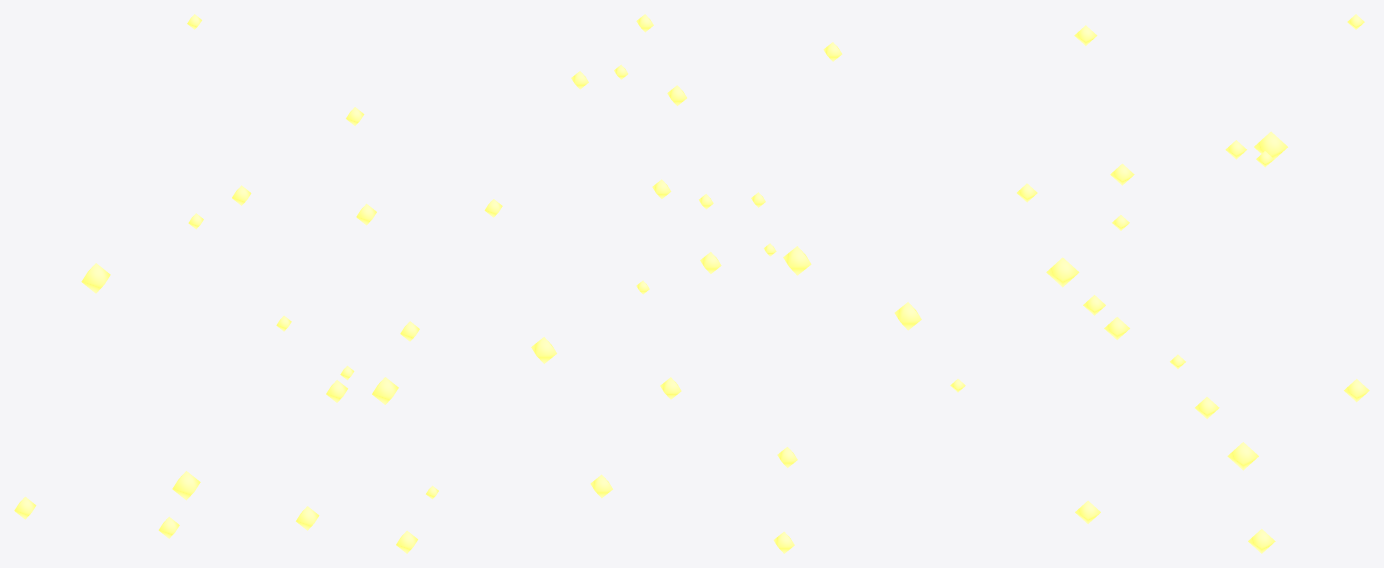
Rendered from kr_fire2_embers.glb.
3 renders of one model, left to right at view 1: azimuth 30°, elevation 25°; view 2: azimuth 150°, elevation 25°; view 3: azimuth 270°, elevation 25°, orthographic. The views are drawn at different scales.
Visible parts, largest first — view 1: kr_fire2_embers_fl_ember; view 2: kr_fire2_embers_fl_ember; view 3: kr_fire2_embers_fl_ember.
Boxes of the visible parts, <box> form: kr_fire2_embers_fl_ember: <box>14,14,502,553</box>; kr_fire2_embers_fl_ember: <box>531,14,921,553</box>; kr_fire2_embers_fl_ember: <box>950,14,1369,553</box>.
Bounding box in the file's own units: 0.3996 × 0.5795 × 0.4347.
